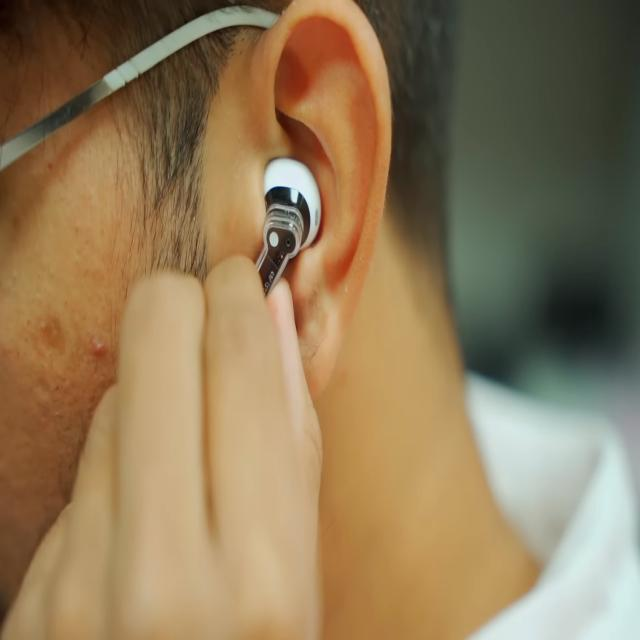airpods: (252, 154, 325, 300)
